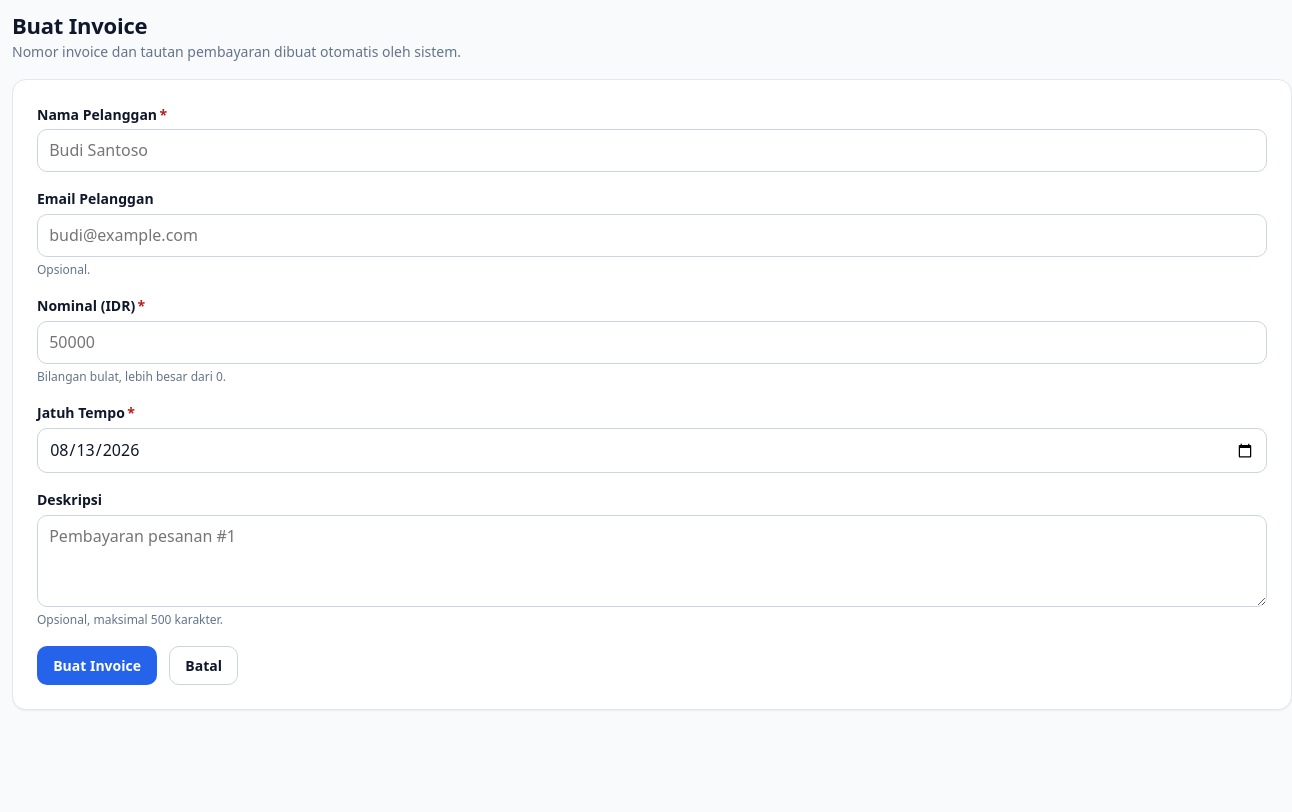
Test: amount validation (SRS §4.5: amount > 0) › rejects a negative amount
This screenshot has width=1292, height=812.
Type "Budi" into the field labelled "Nama Pelanggan*". click: (652, 151)
box: left=37, top=130, right=1267, bottom=172
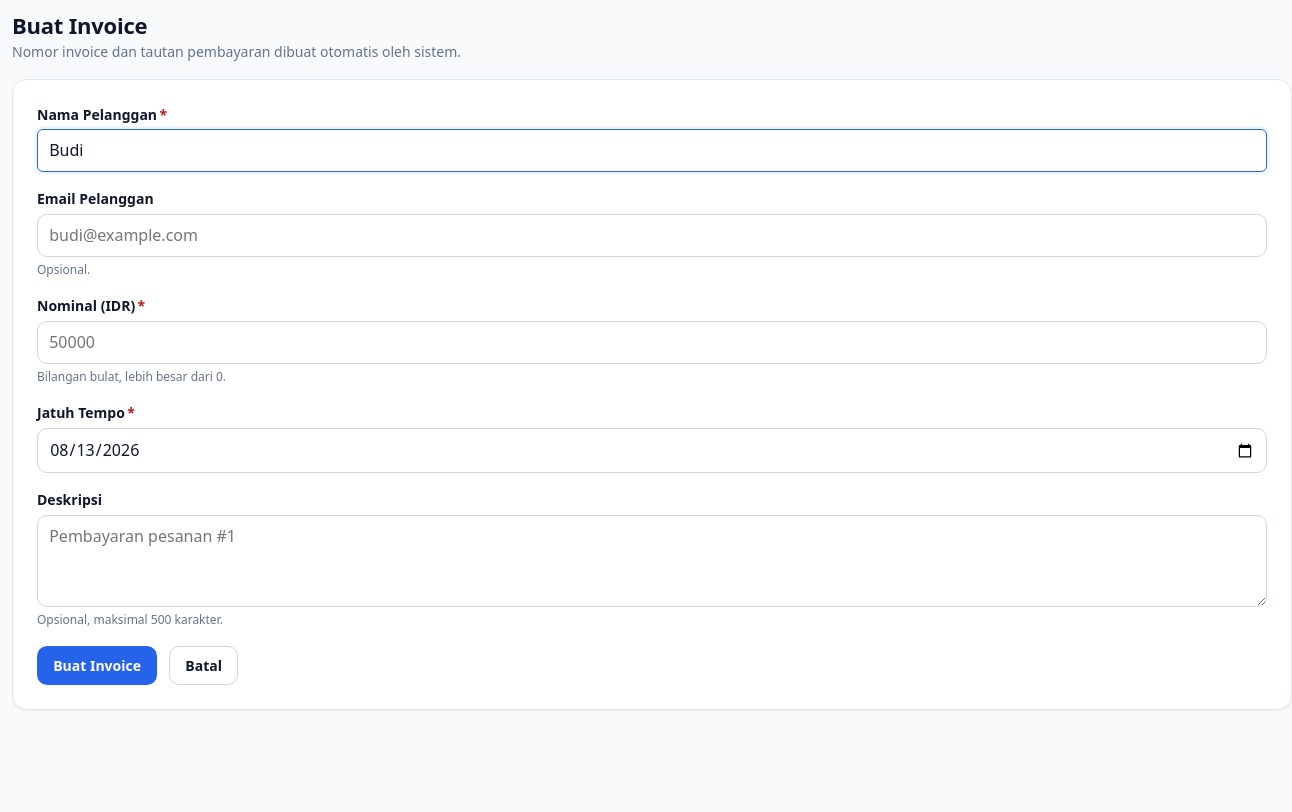
Type "-100" into the number field labelled "Nominal (IDR)*". click: (652, 342)
box: left=37, top=321, right=1267, bottom=364
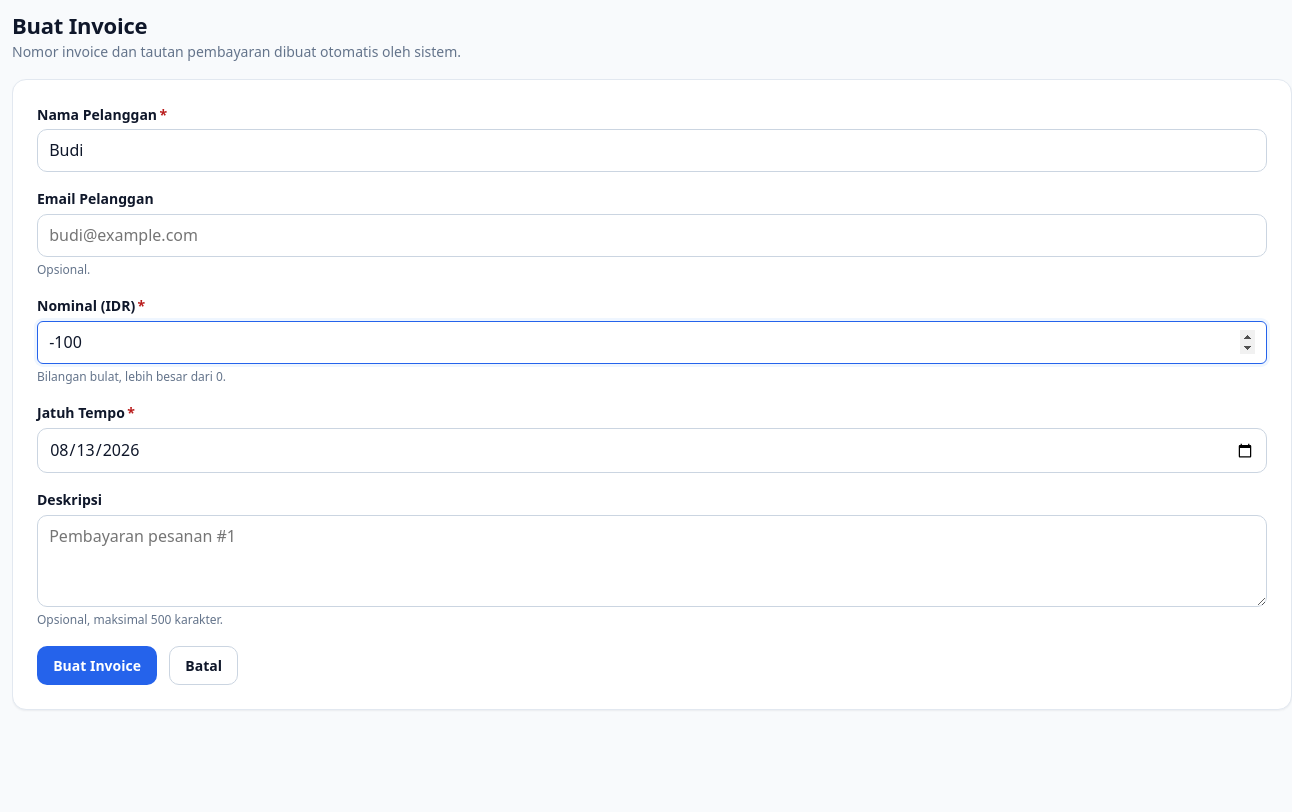
Click the button "Buat Invoice". click: click(97, 665)
box: left=37, top=646, right=157, bottom=685
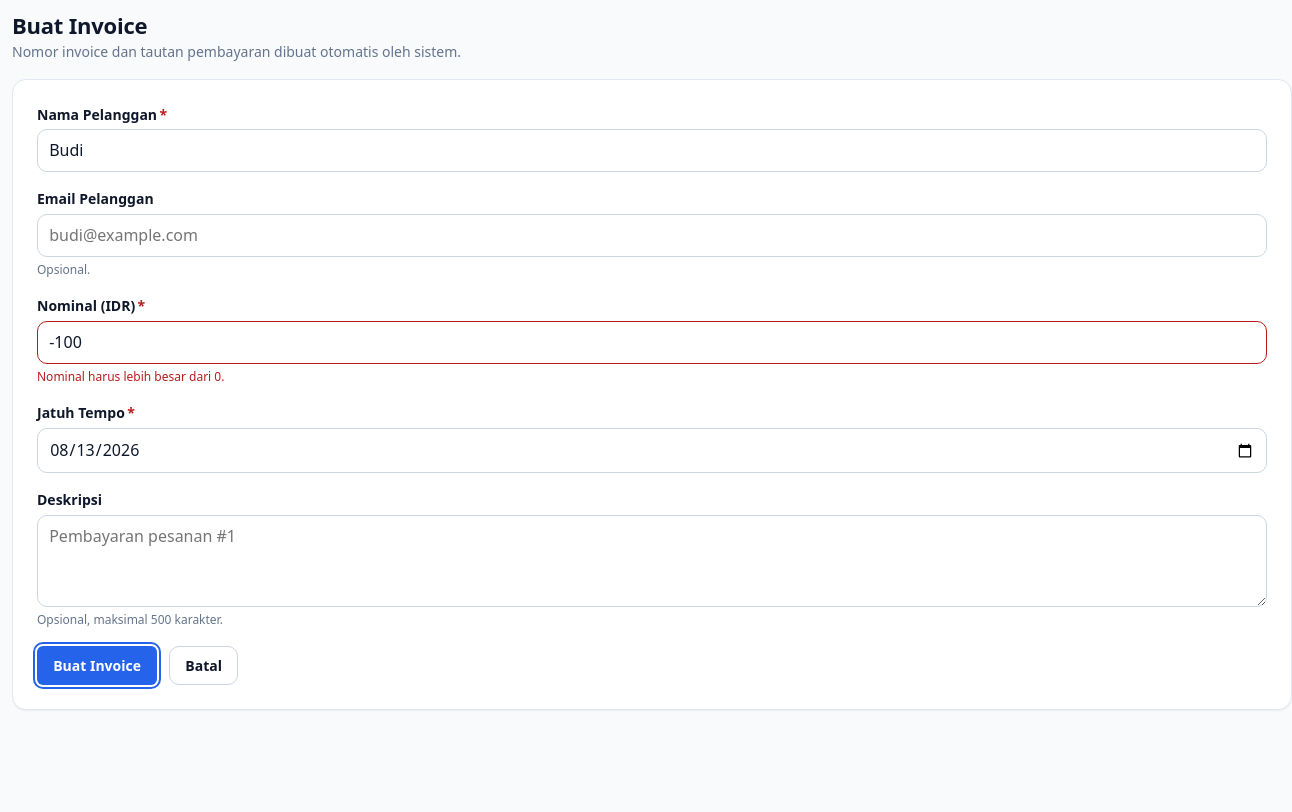
Check: the text "Nominal harus lebih besar dari 0." is shown, box left=37, top=368, right=224, bottom=385
